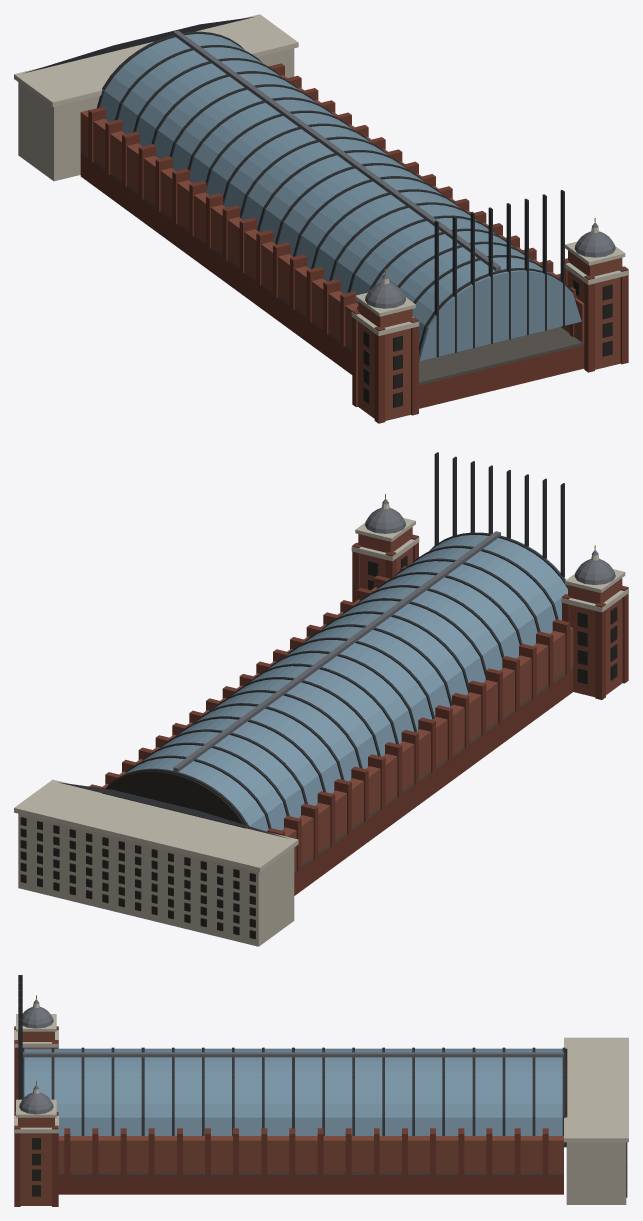
The model's file is cannon_street_station.glb.
3 renders of one model, top to bottom at view 1: azimuth 30°, elevation 25°; view 2: azimuth 150°, elevation 25°; view 3: azimuth 270°, elevation 25°, orthographic. The views are drawn at different scales.
Visible parts, largest first — view 1: cannon_street_station; view 2: cannon_street_station; view 3: cannon_street_station.
Boxes of the visible parts, x1,y1,x2,y2 form: cannon_street_station: (14, 14, 628, 423); cannon_street_station: (14, 452, 628, 946); cannon_street_station: (14, 975, 628, 1206).
Bounding box in the file's own units: 89.6 × 63 × 227.
